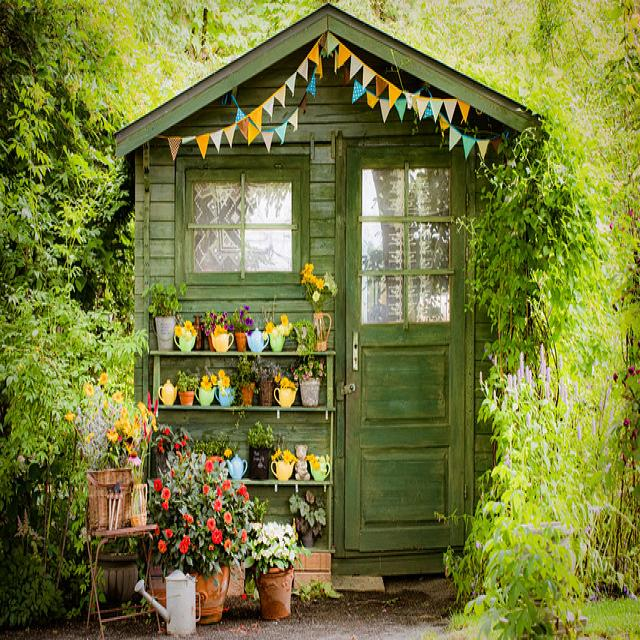Normal_building: (110, 6, 558, 604)
